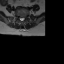CCS_normal: (21, 15, 22, 22)
LFS_severe_stenosis: (24, 14, 26, 20)
LLS_normal: (22, 15, 24, 21)
RFS_severe_stenosis: (17, 14, 19, 19)
RLS_normal: (19, 15, 21, 21)
